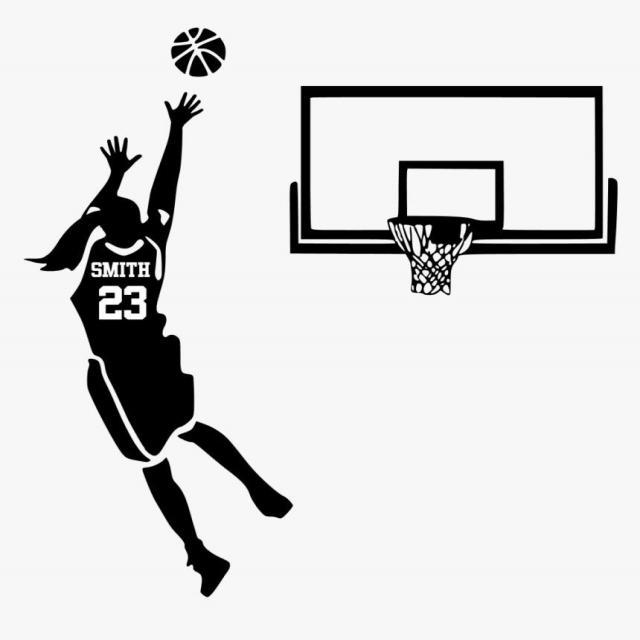Basketball: (172, 28, 226, 77)
hoop: (388, 216, 476, 295)
